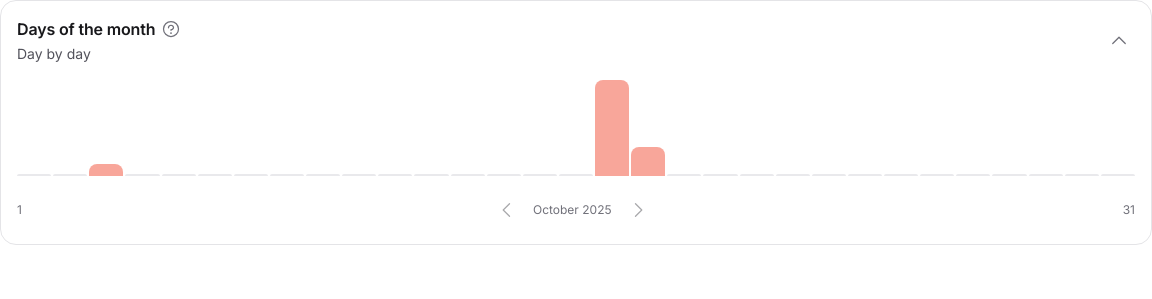
Test: the days of the month › writes the pressed day under the bars, closes the card, and keeps the pill
The width and height of the screenshot is (1152, 299).
Hover over the button named "18 October: 90" at (648, 128), box [631,80,665,176]
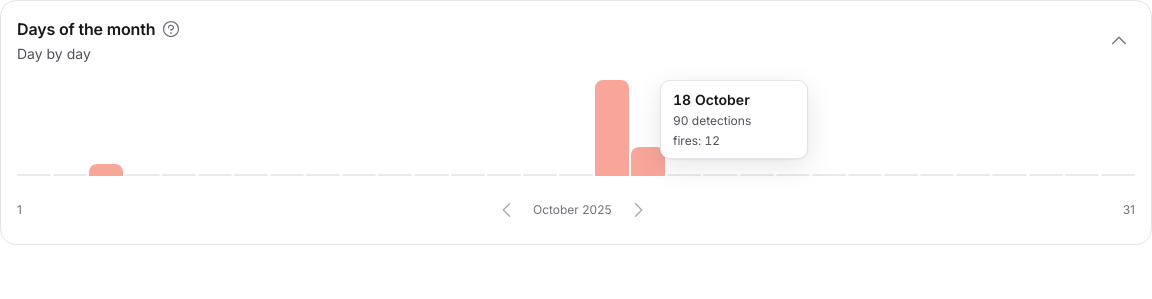
Click the button named "18 October: 90" at (648, 128), box [631,80,665,176]
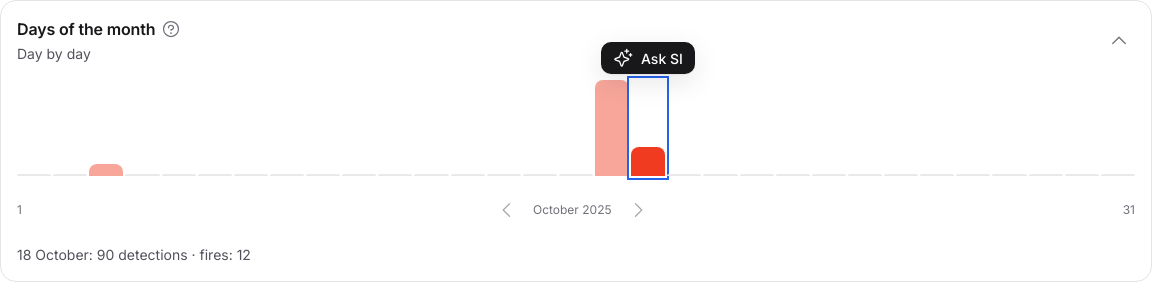
Result: the message "18 October 90 detections fires: 12" is gone
Result: the text "18 October: 90 detections · fires: 12" is shown at [17,246,251,263]
Result: the button "Ask SI" is shown at [601,42,695,74]
